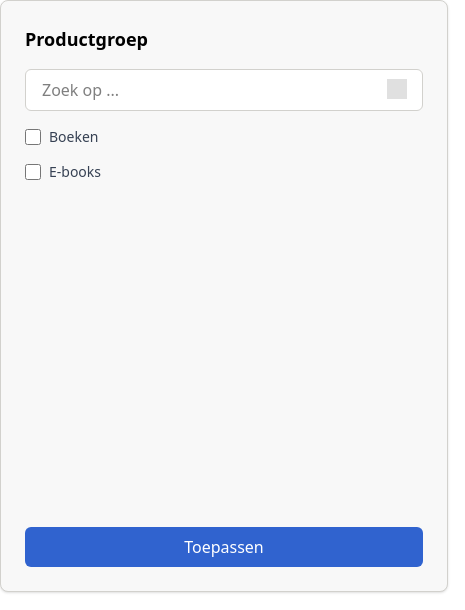
Test: ItemList (integration) › filters visible items when user types in the search input
Expected: the text "Boeken" is shown, [49,127,98,147]
Type "E-books" into the field with placeholder "Zoek op ..." at [224, 90], box [25,69,423,111]
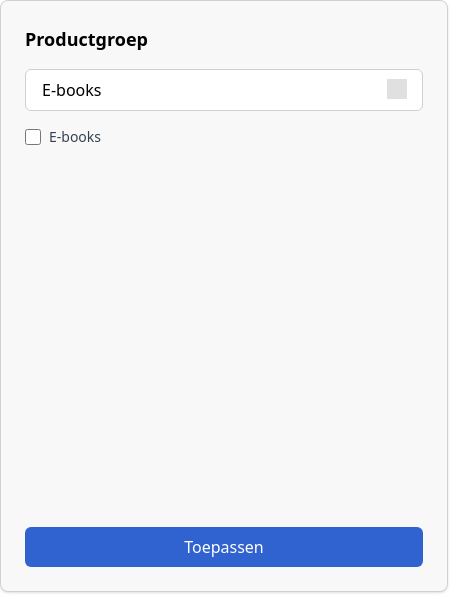
Expected: the text "E-books" is shown, [49,127,101,147]
Expected: the text "Boeken" is gone
